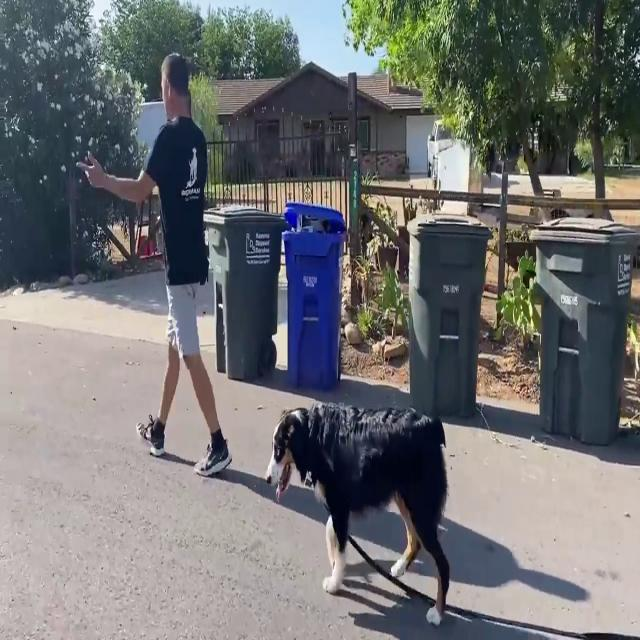Unleashed_Dog: (170, 278, 451, 627)
